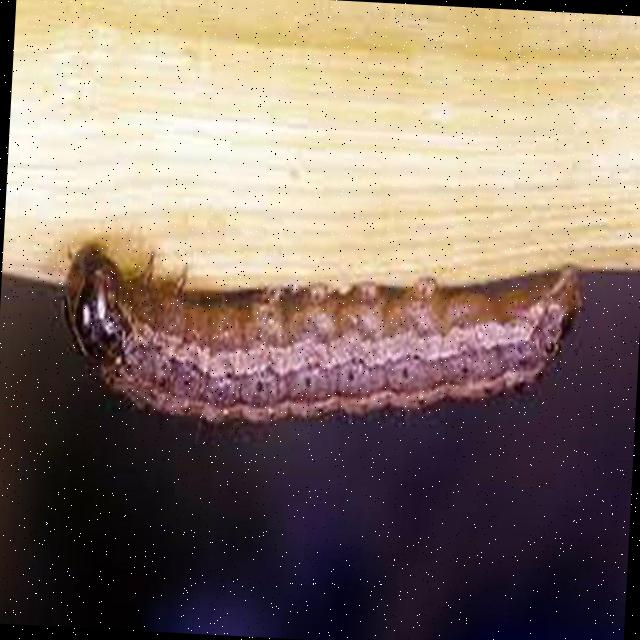worm: (54, 236, 589, 445)
